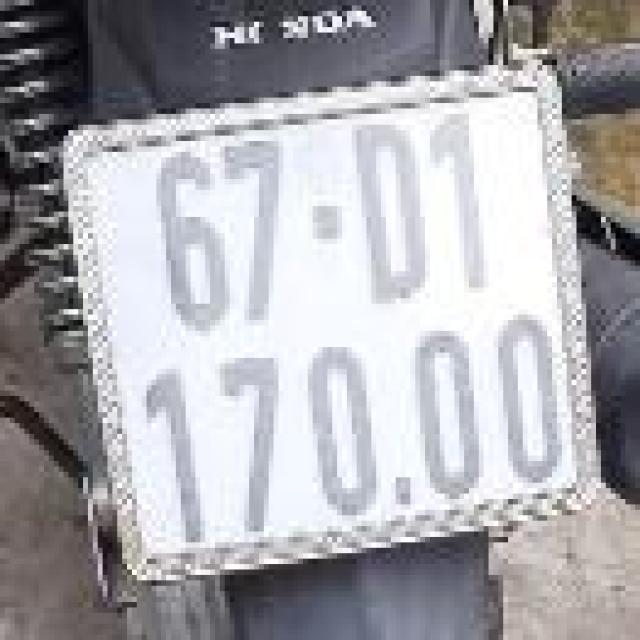0: (486, 306, 579, 491), (298, 331, 391, 515), (406, 322, 494, 502)
1: (122, 364, 215, 554), (430, 100, 498, 301)
6: (154, 146, 237, 331)
7: (210, 352, 288, 537), (230, 138, 303, 328)
D: (344, 111, 428, 312)
